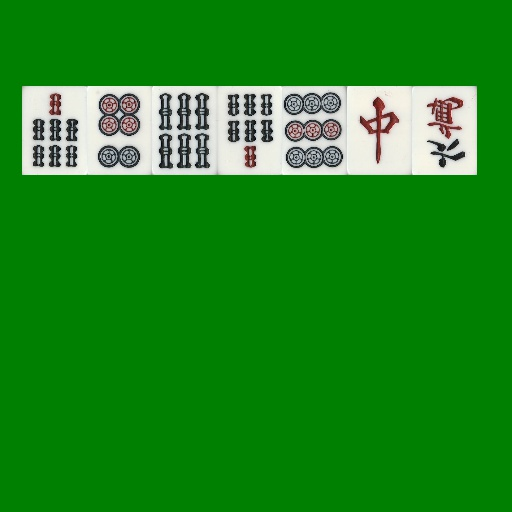6m: (412, 86, 477, 175)
6p: (87, 86, 152, 175)
6s: (152, 86, 217, 175)
7s: (22, 86, 87, 175), (217, 86, 282, 175)
9p: (282, 86, 347, 175)
tyun: (347, 86, 412, 175)
